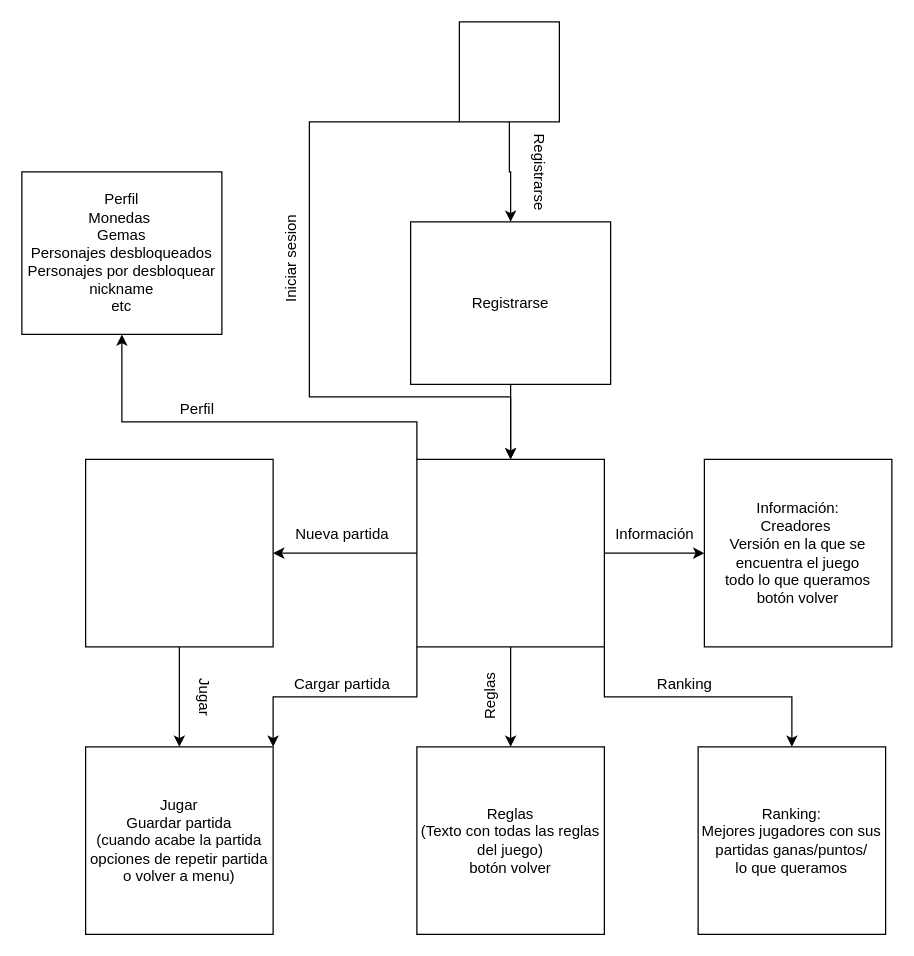
Some shapes in this 914 by 956 pixel diagram are drawn without their labels. The shapes that lost their labels are listed below. From the top down, each one's box as (x1, y1, x2, y2) in pixels, then its label:
(458, 21, 559, 122): Cinematica (Pulsar para saltar)
(84, 458, 273, 647): Crear Planeta Crear equipo Añadir personaje Añadir Jugadores Jugar
(416, 458, 604, 647): Menu Perfil Nueva partida Reglas juego Información Ranking Cargar Partida Salir
